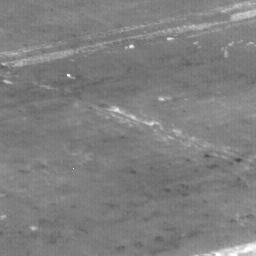aircraft: (68, 74, 70, 76)
